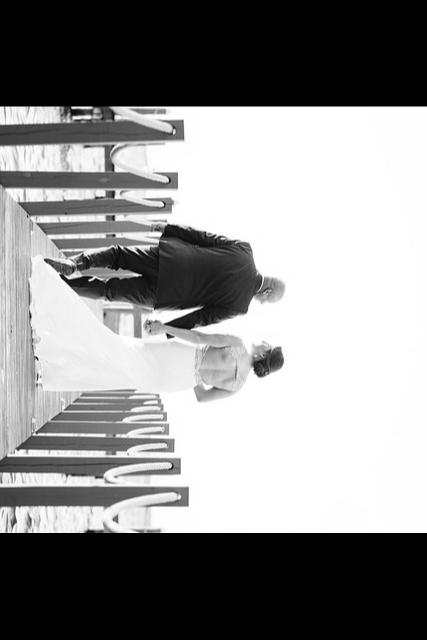Non_Gorille: (0, 111, 427, 516)
